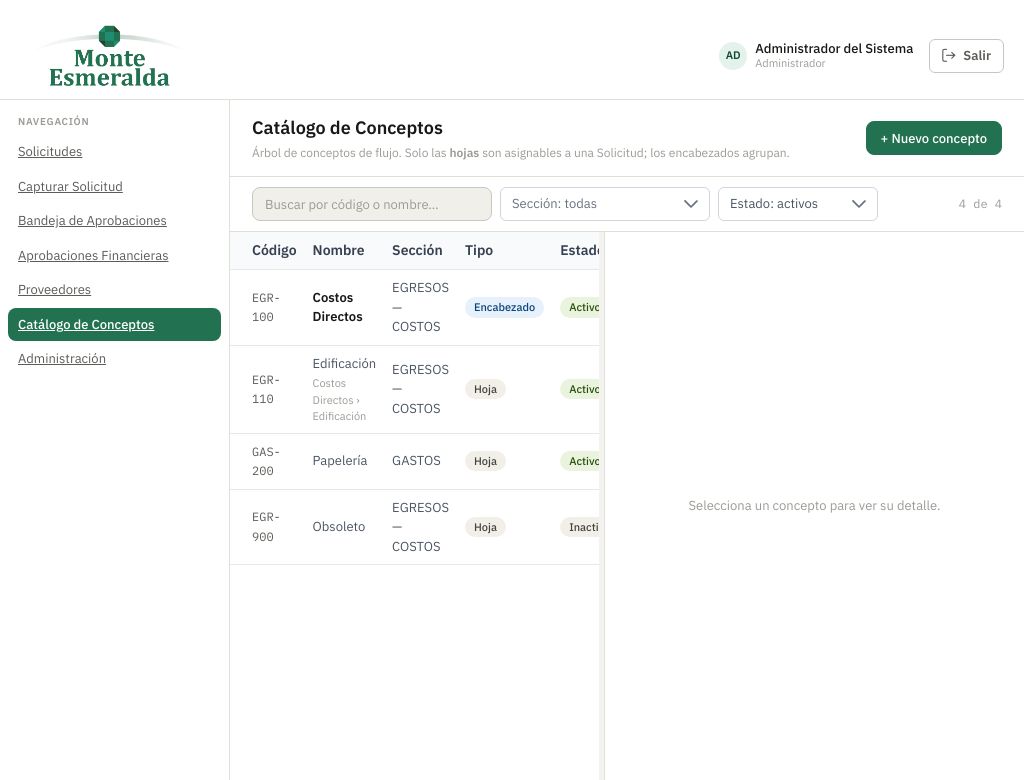
Test: el filtro 'inactivos' trae todos y deja solo los inactivos
This screenshot has width=1024, height=780.
Expected: the text "EGR-100" is shown, [252,290,281,324]
Click the element named "Filtrar por estado" at {"x": 798, "y": 204}, box [718,187,878,221]
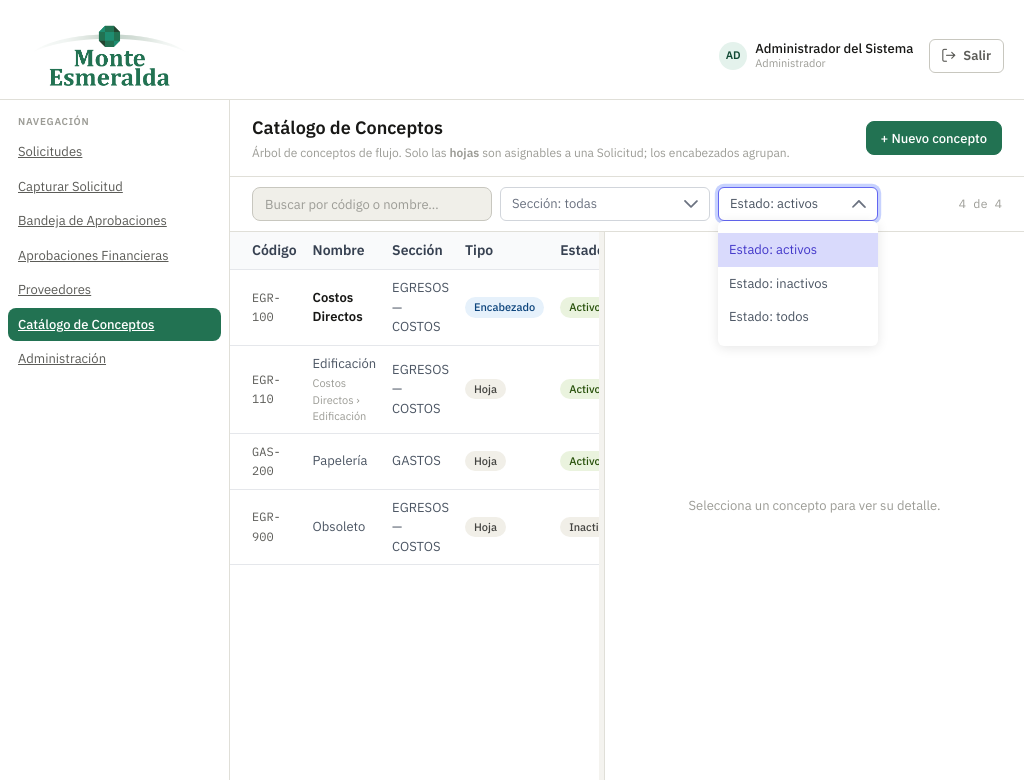
Click the option "Estado: inactivos" at {"x": 778, "y": 283}, box [729,274,828,292]
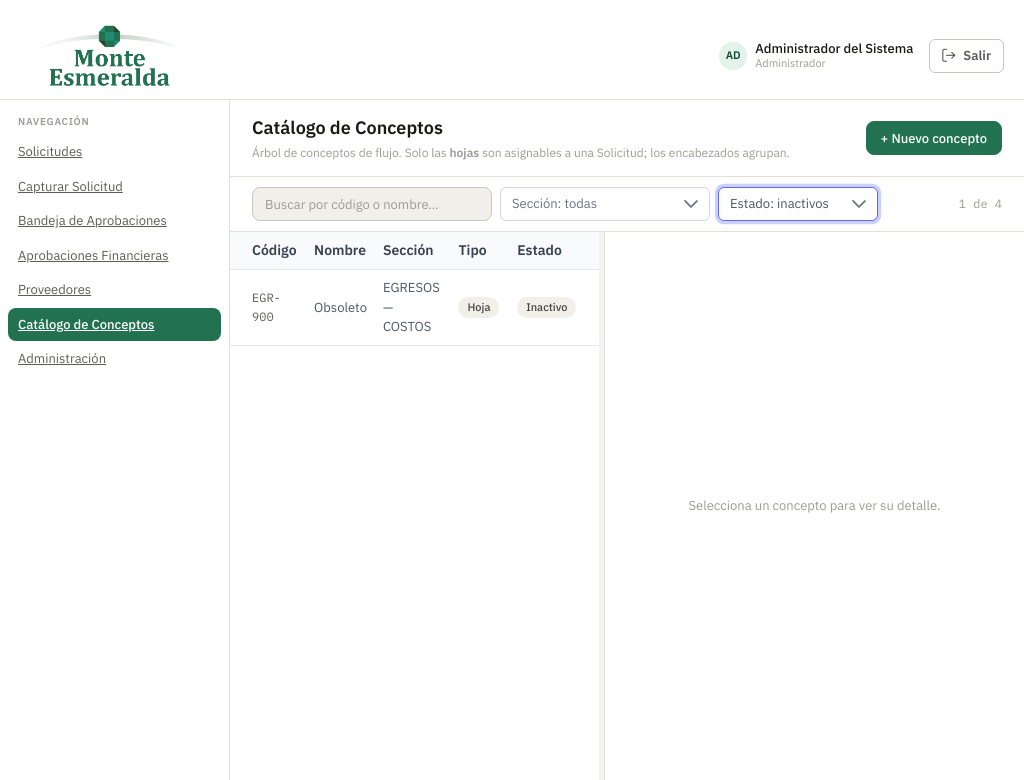
Expected: the text "Obsoleto" is shown, [314,298,367,317]
Expected: the text "Edificación" is gone
Expected: the text "1 de 4" is shown, [959,195,1002,213]
